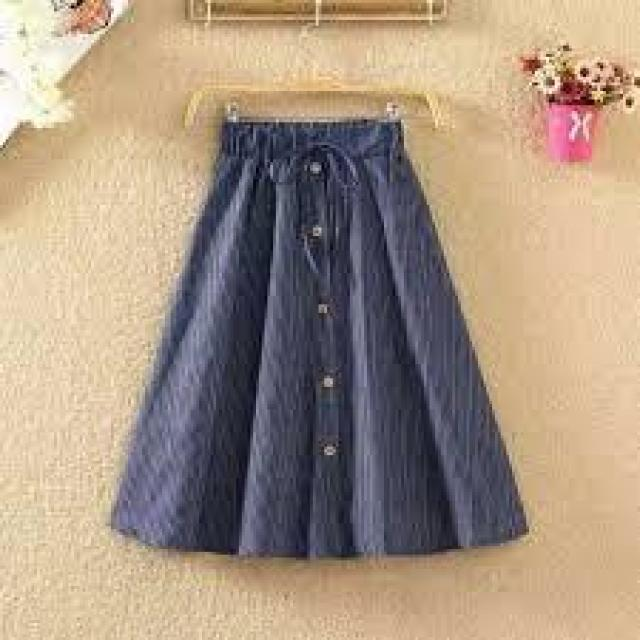skirt: (104, 115, 530, 559)
